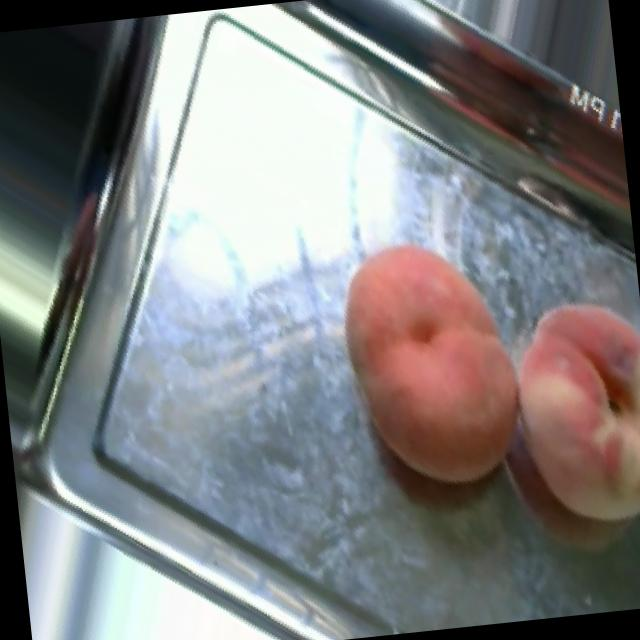Fruit: (297, 204, 546, 516), (481, 272, 640, 555)
